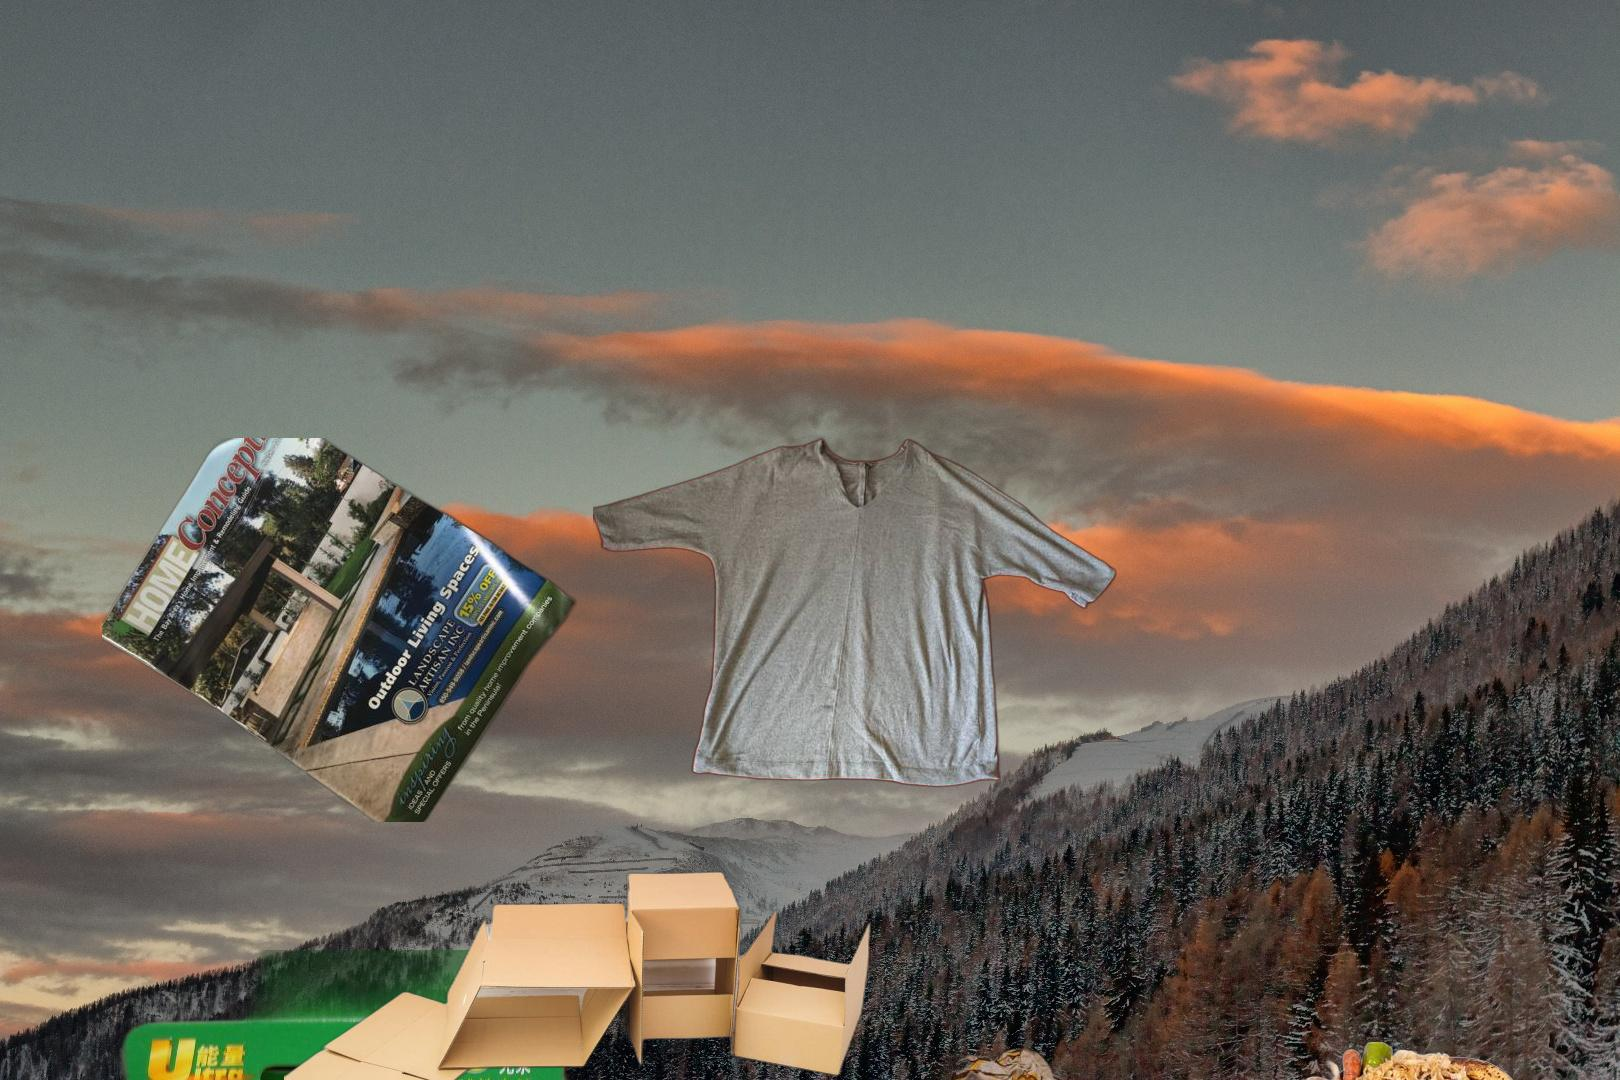battery: (111, 950, 1033, 1080)
biological: (1295, 1039, 1521, 1080)
clothes: (593, 406, 1127, 790)
paper: (102, 438, 579, 822)
paper-bag: (868, 1044, 1088, 1080)
trashbox-cardboard: (284, 868, 877, 1080)
